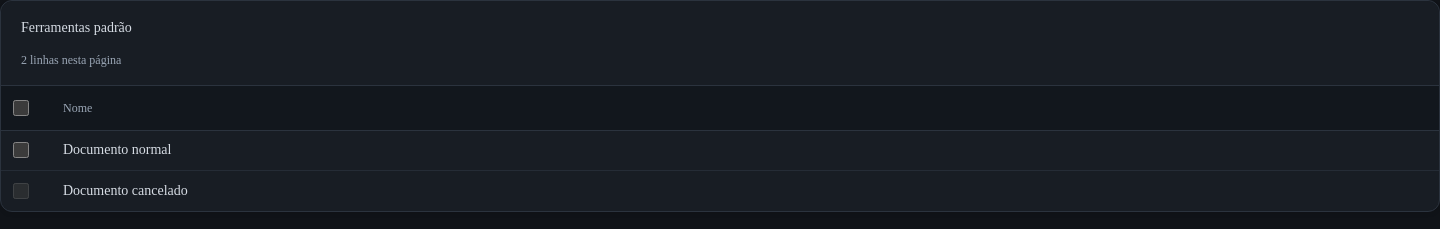
Test case: barra contextual da tabela › oferece todas as linhas elegíveis sem selecionar a cancelada
Click the checkbox named "Selecionar linha 1". click: (21, 150)
box: [13,142,29,158]
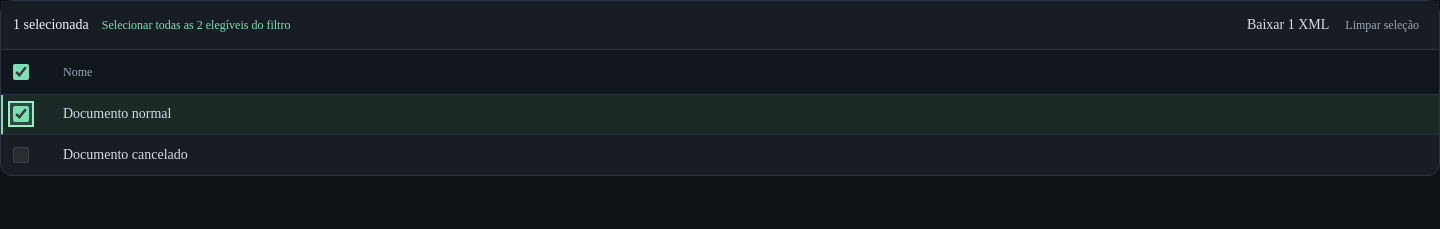
Click the button "Selecionar todas as 2 elegíveis do filtro". click: (196, 25)
box: [101,13,291,37]
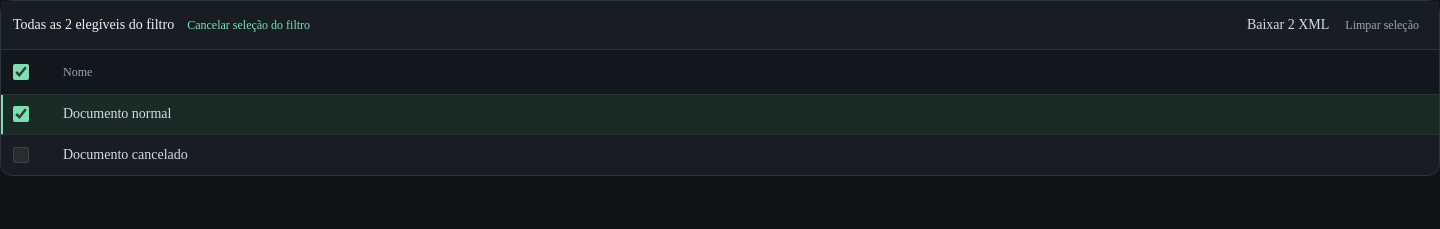
expect the checkbox named "Selecionar todas as linhas elegíveis nesta página" is checked: met, box [13,64,29,80]
expect the text "Todas as 2 elegíveis do filtro" is shown: met, box [13,14,174,36]
expect the button "Baixar 2 XML" is shown: met, box [1247,14,1329,36]
